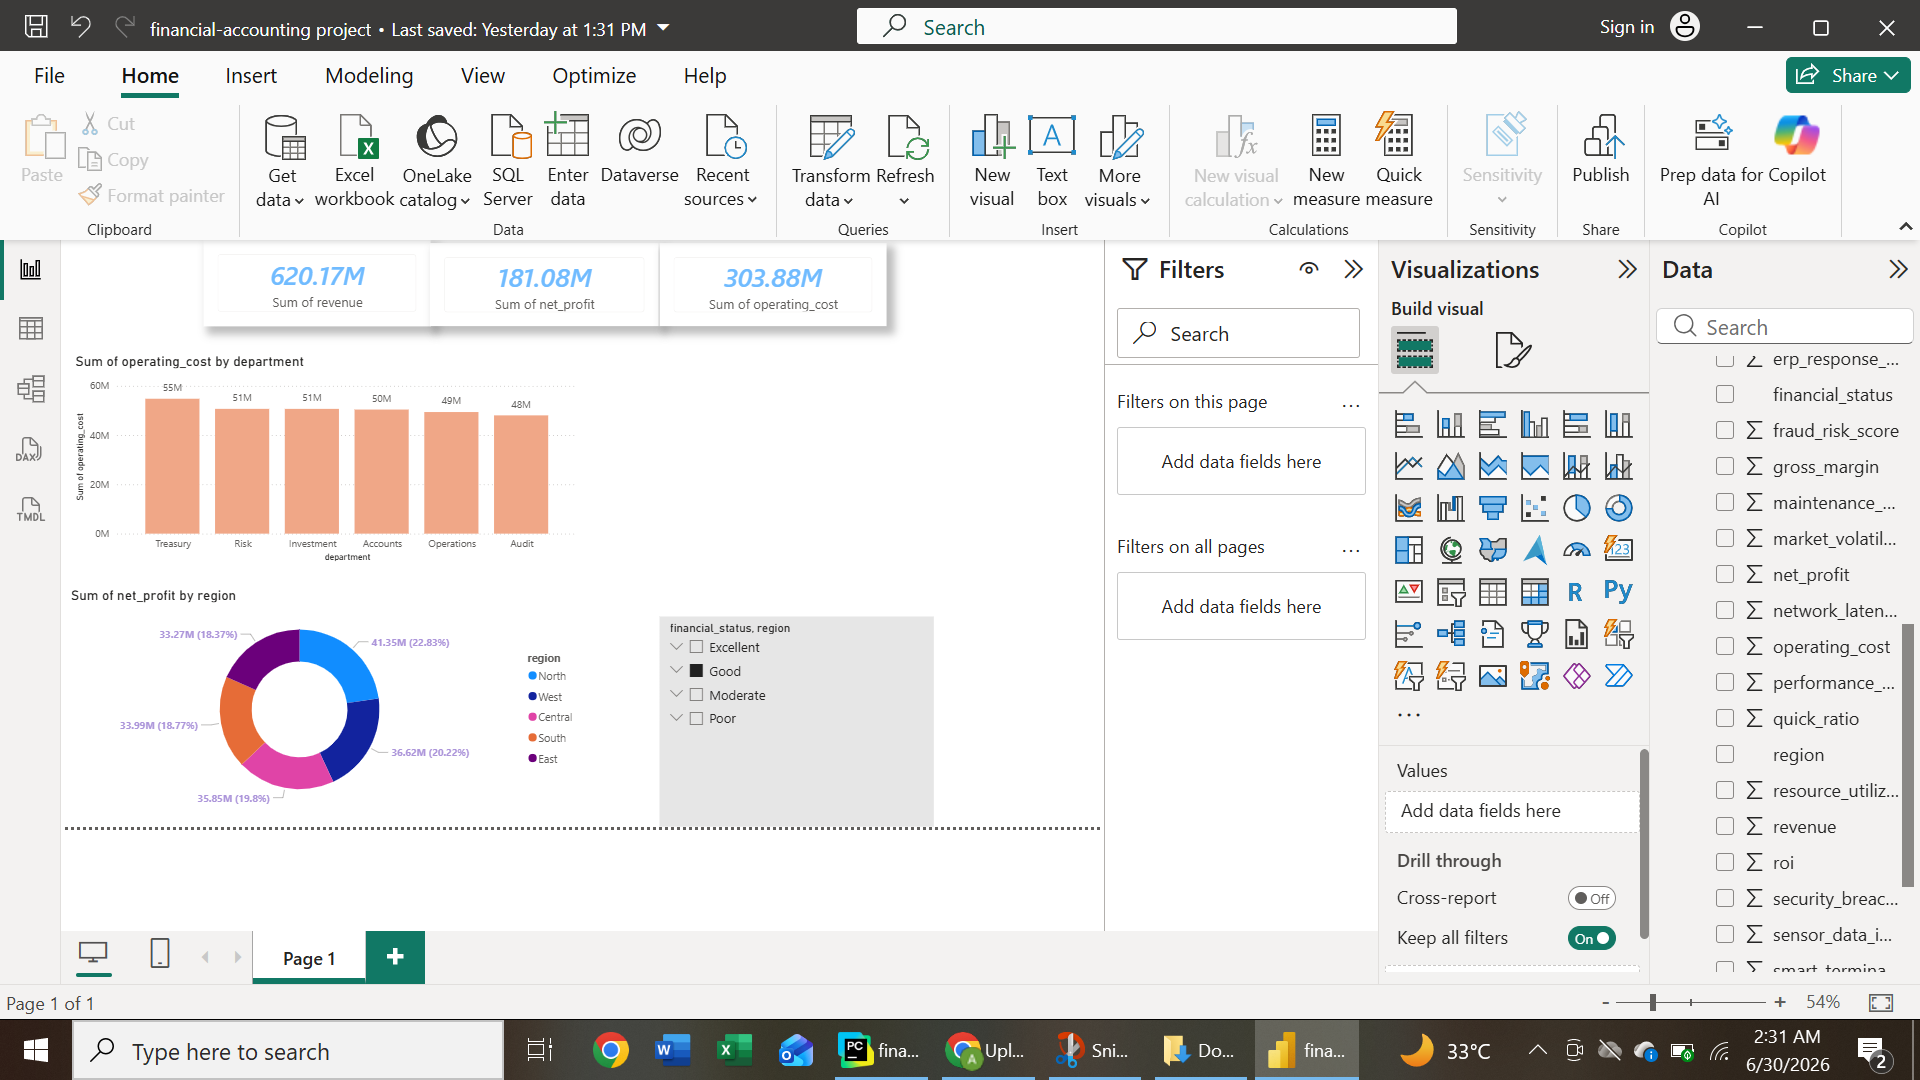

What the dashboard file says about the page in this screenshot:
{"tool":"powerbi","page":{"name":"Page 1","canvas":[1280,720],"ordinal":0},"visuals":[{"type":"cardVisual","fields":{"Data":["Sum(public finance_data.revenue)"]},"box":[174.6,0,278.6,106],"z":0},{"type":"cardVisual","fields":{"Data":["Sum(public finance_data.net_profit)"]},"box":[453.3,3.9,280.6,102],"z":1000},{"type":"cardVisual","fields":{"Data":["Sum(public finance_data.operating_cost)"]},"box":[733.9,3.9,278.6,102],"z":2000},{"type":"clusteredColumnChart","fields":{"Category":["public finance_data.department"],"Y":["Sum(public finance_data.operating_cost)"]},"box":[13.7,137.4,625.9,261],"z":2001},{"type":"donutChart","fields":{"Y":["Sum(public finance_data.net_profit)"],"Category":["public finance_data.region"]},"box":[643.6,141.3,635.8,257],"z":2002},{"type":"slicer","fields":{"Values":["public finance_data.financial_status","public finance_data.region"]},"box":[11.8,453.3,484.7,257],"z":2003}]}

Visuals, with their boxes on the page's 1280x720 design canvas (x1, y1, x2, y2). These are canvas units, not pixel positions in the 1920x1080 screenshot, which may show the page scaled, cropped or inside an application window:
cardVisual - Sum(public finance_data.revenue): <region>175, 0, 453, 106</region>
cardVisual - Sum(public finance_data.net_profit): <region>453, 4, 734, 106</region>
cardVisual - Sum(public finance_data.operating_cost): <region>734, 4, 1012, 106</region>
clusteredColumnChart - public finance_data.department x Sum(public finance_data.operating_cost): <region>14, 137, 640, 398</region>
donutChart - Sum(public finance_data.net_profit) x public finance_data.region: <region>644, 141, 1279, 398</region>
slicer - public finance_data.financial_status x public finance_data.region: <region>12, 453, 496, 710</region>
